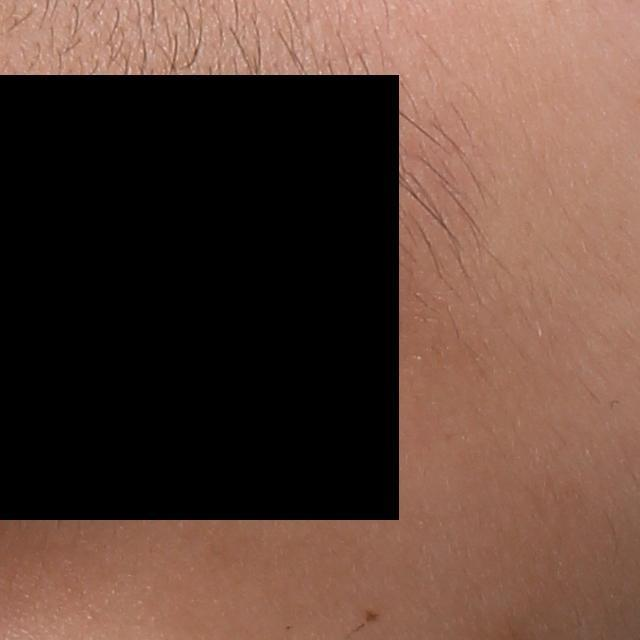nevus: (362, 608, 385, 628)
